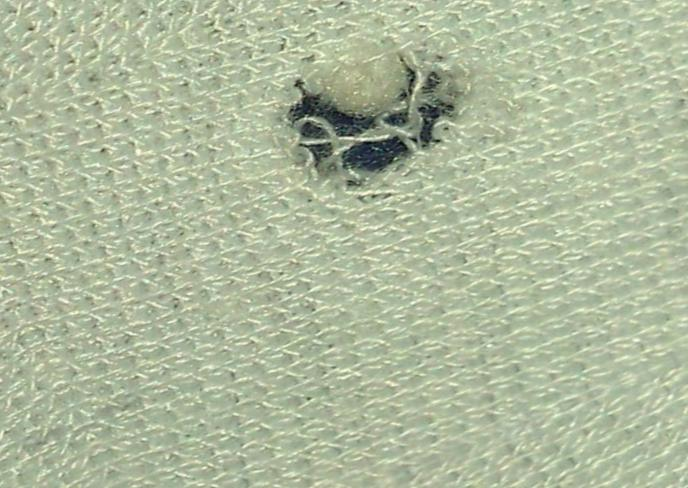hole: (286, 30, 424, 129)
